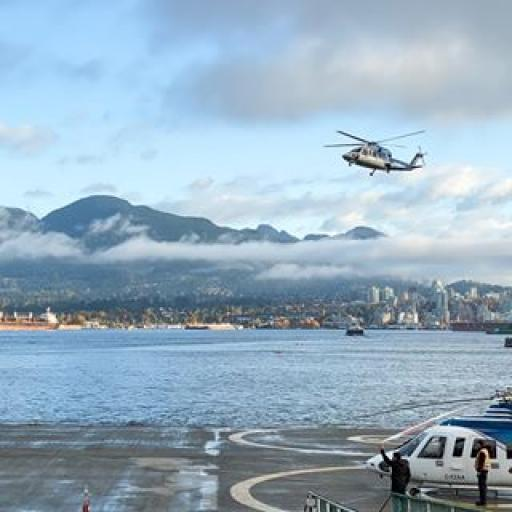helicopter: (371, 374, 505, 511), (316, 103, 444, 198)
